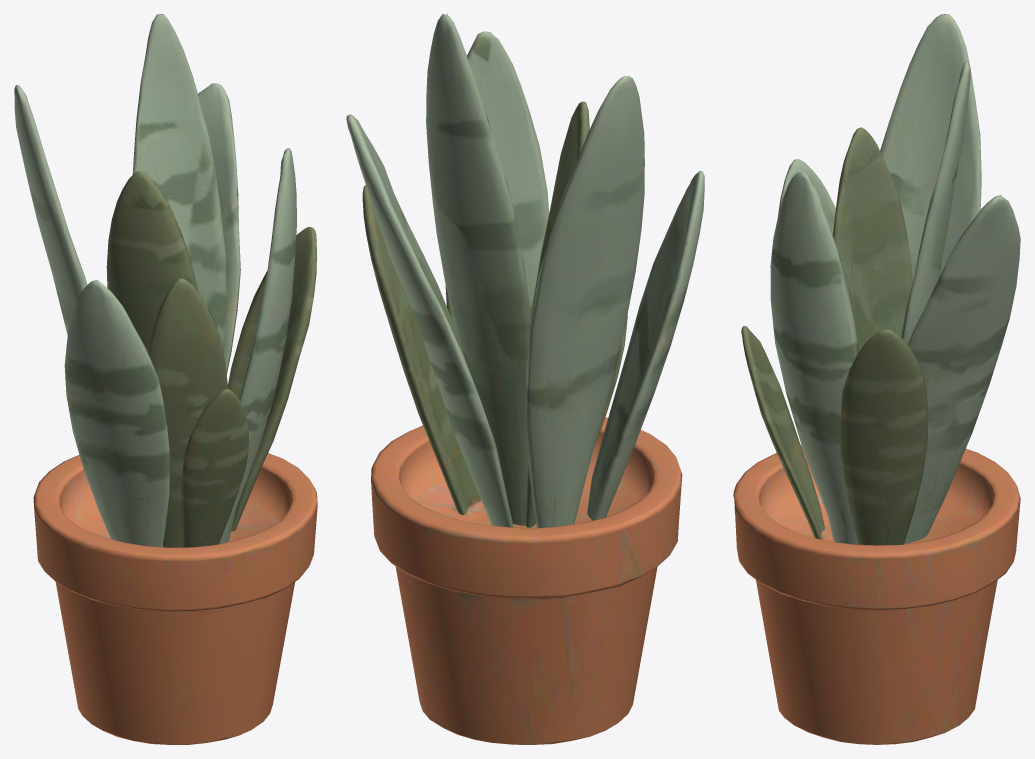
The model's file is sansevieria.glb.
3 views of the same model, side by side, from view 1: azimuth 30°, elevation 25°; view 2: azimuth 150°, elevation 25°; view 3: azimuth 270°, elevation 25° (orthographic). The views are drawn at different scales.
Size of the model in its own units: 0.4344 by 1 by 0.3969.
Materials: 1 (1 with a texture image).
